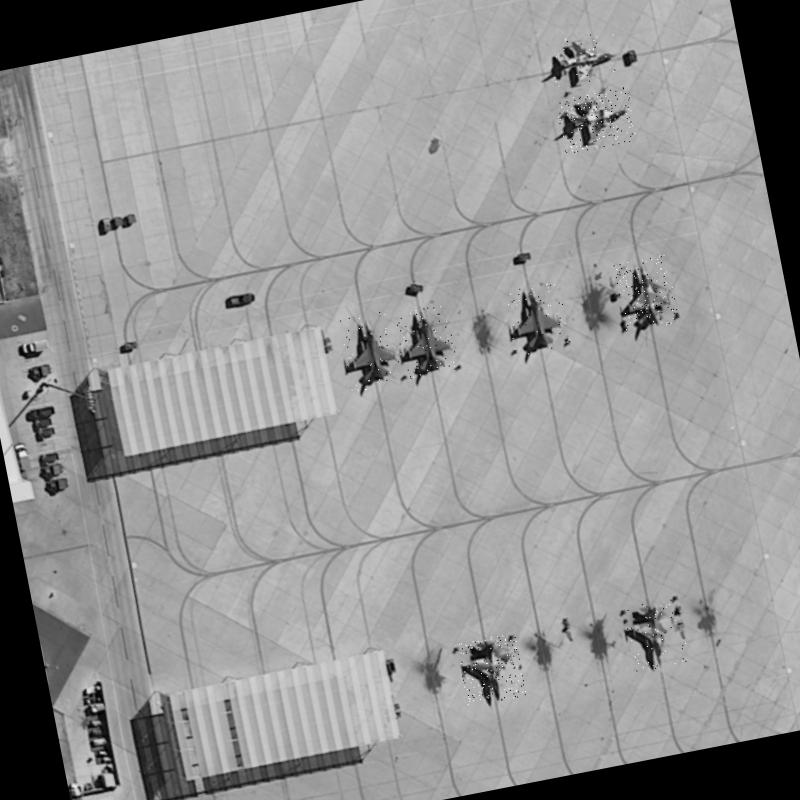A5: (555, 86, 638, 155), (338, 310, 403, 392), (456, 632, 526, 708), (503, 278, 570, 357), (392, 300, 458, 380), (544, 28, 626, 92), (622, 596, 690, 672), (613, 254, 679, 332)
